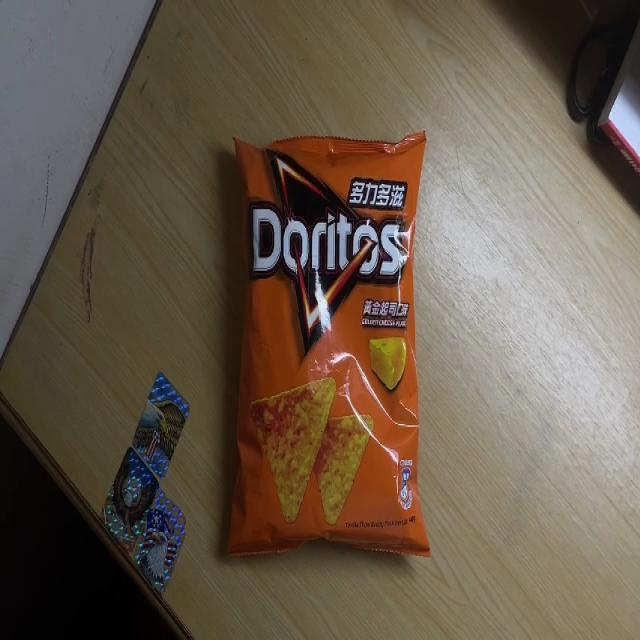Doritos: (229, 130, 432, 558)
